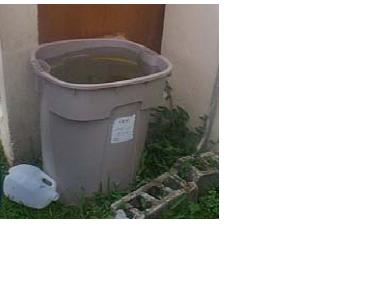container: (25, 35, 175, 204), (2, 161, 71, 214)
water: (39, 40, 173, 92)
